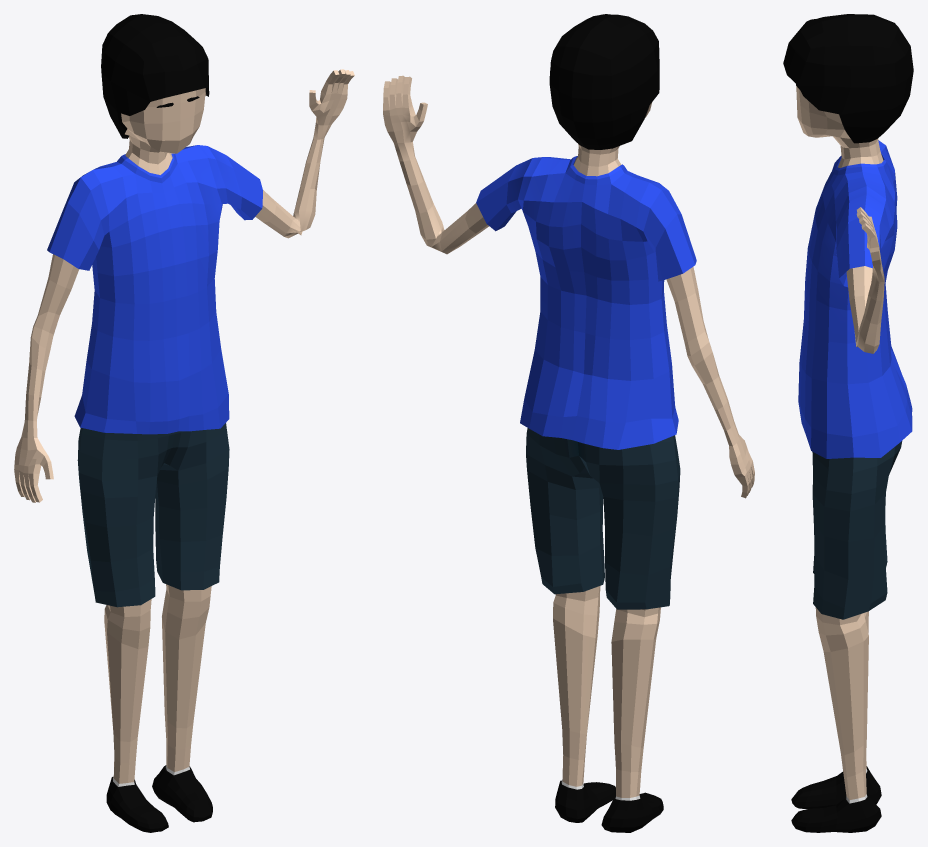
The model's file is chico.obj.
3 renders of one model, left to right at view 1: azimuth 30°, elevation 25°; view 2: azimuth 150°, elevation 25°; view 3: azimuth 270°, elevation 25°, orthographic.
Visible parts, largest first — view 1: Boy12yr; view 2: Boy12yr; view 3: Boy12yr.
Part boxes in pixels (<box>): Boy12yr: <box>14,14,354,832</box>; Boy12yr: <box>383,14,754,832</box>; Boy12yr: <box>783,14,913,832</box>.
Size of the model in its own units: 25.47 by 55.21 by 8.16.
1 material, 1 textured.
